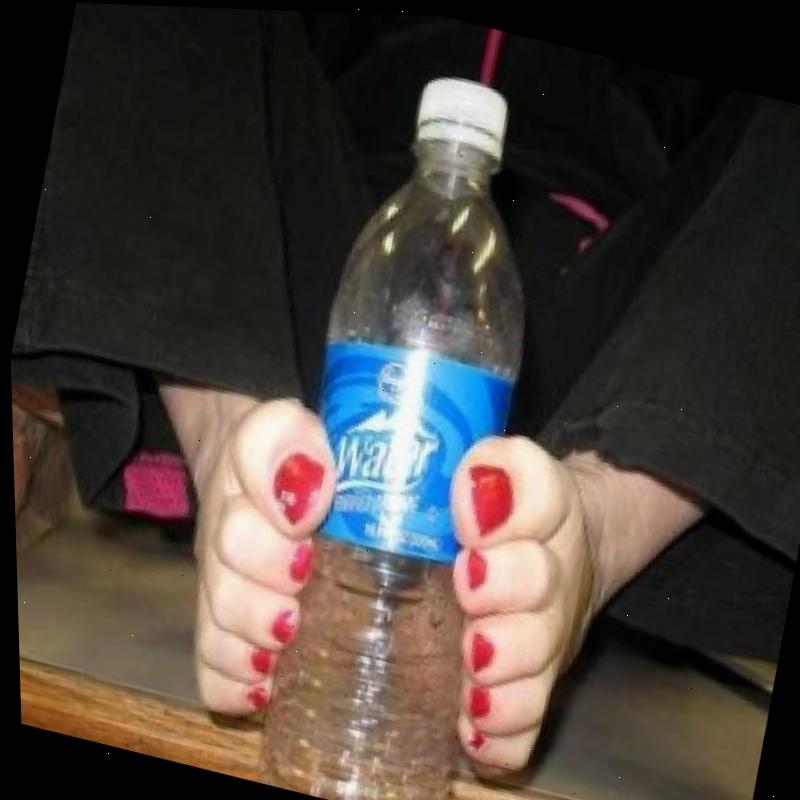botella: (220, 44, 601, 800)
